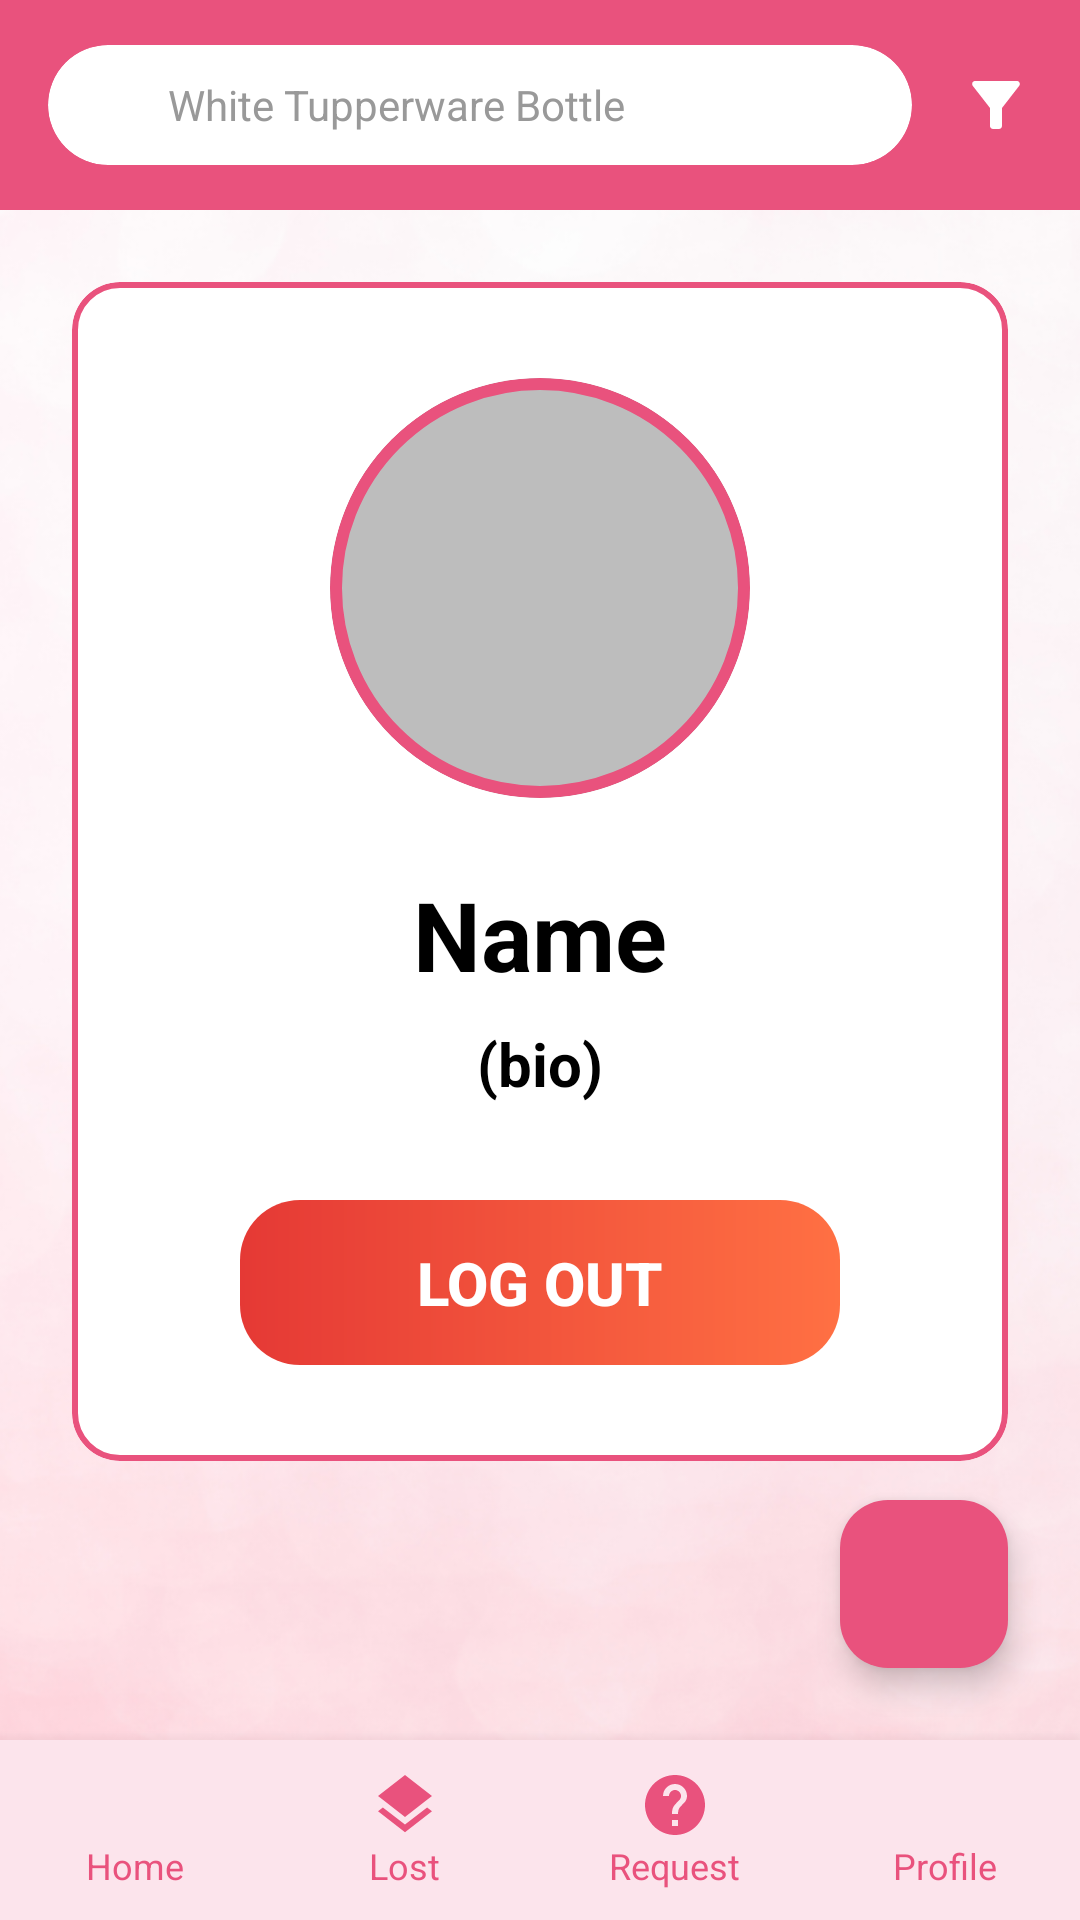

Named icons in this screenshot (1080×1920) and their centers, (x=x, y=y):
filter: (x=996, y=105)
help: (x=675, y=1805)
layers: (x=405, y=1803)
